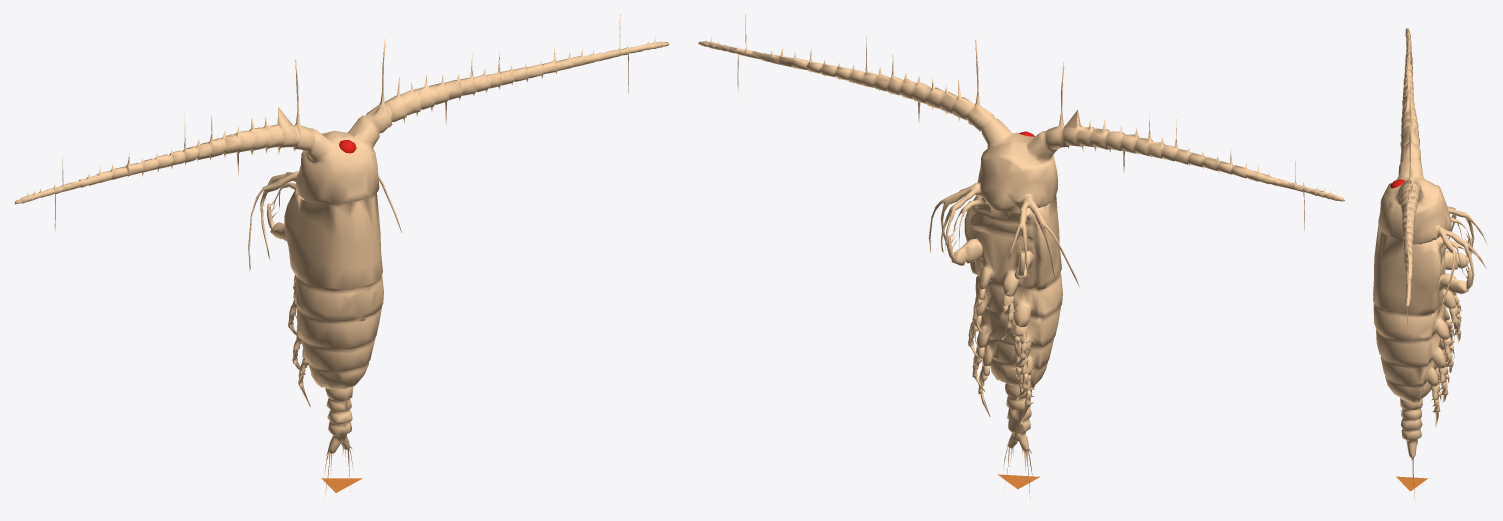
Rendered from copepod.fbx.
The picture shows the model from 3 angles, left to right: view 1: azimuth 30°, elevation 25°; view 2: azimuth 150°, elevation 25°; view 3: azimuth 270°, elevation 25°; orthographic projection. The views are drawn at different scales.
Visible parts, largest first — view 1: PlanktonExternal2; view 2: PlanktonExternal2; view 3: PlanktonExternal2, Cylinder.
Boxes of the visible parts, x1=… form: PlanktonExternal2: x1=14, y1=14, x2=669, y2=498; PlanktonExternal2: x1=698, y1=14, x2=1344, y2=504; PlanktonExternal2: x1=1373, y1=28, x2=1487, y2=501; Cylinder: x1=1396, y1=476, x2=1427, y2=491.
Bounding box in the file's own units: 808 × 539 × 143.
